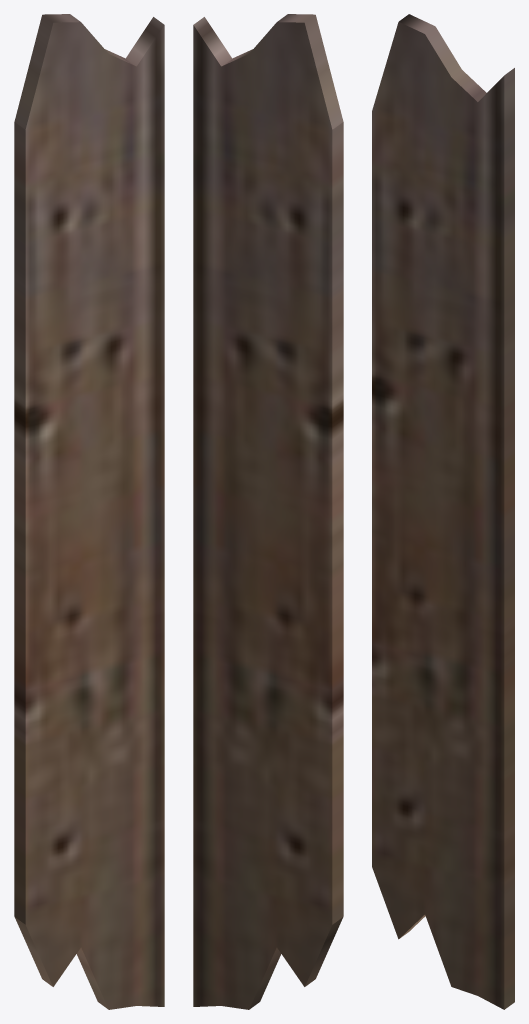
Rendered from mokuzai_4.fbx.
The picture shows the model from 3 angles, left to right: view 1: azimuth 30°, elevation 25°; view 2: azimuth 150°, elevation 25°; view 3: azimuth 330°, elevation 25°; orthographic projection. The views are drawn at different scales.
Parts seen in each view (by area): view 1: pCube7; view 2: pCube7; view 3: pCube7.
Part boxes in pixels (bbox=[...]): pCube7: bbox=[14, 14, 164, 1009]; pCube7: bbox=[193, 14, 343, 1009]; pCube7: bbox=[372, 14, 514, 1009].
Size of the model in its own units: 1.49 by 10.38 by 0.2064.
